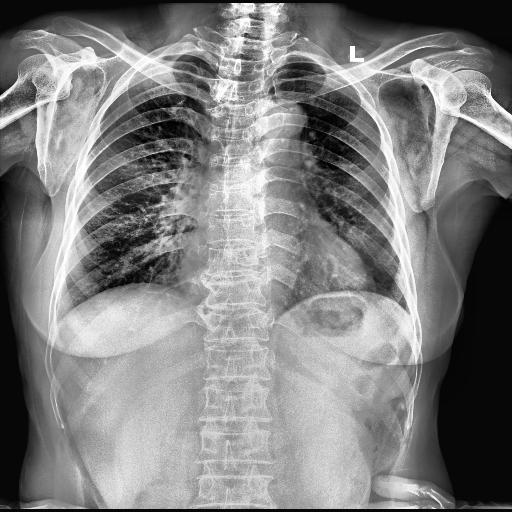0- Aortic enlargement: (250, 97, 308, 148), (260, 101, 306, 161), (247, 96, 309, 136)
3- Cardiomegaly: (176, 247, 374, 298)
